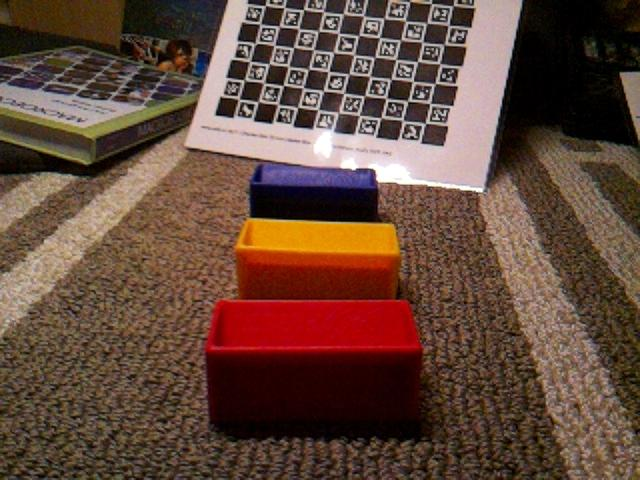blue: (247, 161, 381, 222)
red: (204, 297, 424, 434)
yellow: (234, 216, 403, 300)
